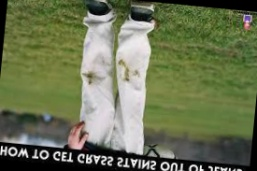earth: (86, 71, 96, 85), (123, 68, 131, 81), (118, 59, 127, 66), (134, 70, 141, 78)
